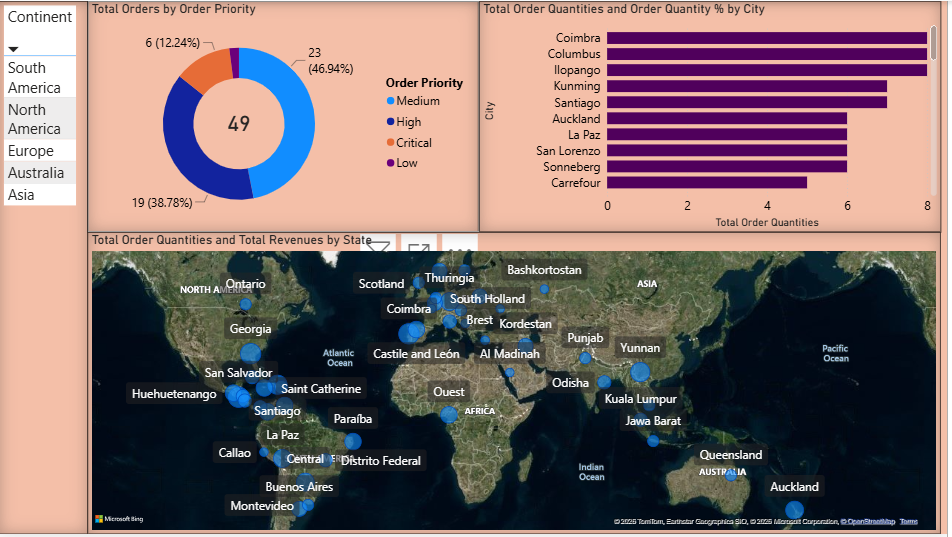

Layout of this report page (visuals, bound fields, positions):
{"tool":"powerbi","page":{"name":"Regional order page","canvas":[1280,720],"ordinal":2},"visuals":[{"type":"donutChart","fields":{"Category":["sales.Order Priority"],"Y":["Date.Total Orders"]},"box":[120,0,528,312],"z":0},{"type":"map","fields":{"Category":["sales.State","sales.City","sales.Country"],"Size":["sales.Total Order Quantities"]},"box":[120,312,1152,408],"z":1000},{"type":"clusteredBarChart","fields":{"Y":["sales.Total Order Quantities"],"Category":["sales.City"]},"box":[648,0,624,312],"z":2000},{"type":"tableEx","fields":{"Values":["Region.Continent"]},"box":[0,0,120,720],"z":3000}]}

Visuals, with their boxes in screenshot pixels (x1, y1, x2, y2), scaled from the page's 1280x720 canvas onto the 952x537 screenshot:
donutChart - sales.Order Priority x Date.Total Orders: 89, 0, 482, 233
map - sales.State x sales.City: 89, 233, 946, 536
clusteredBarChart - sales.Total Order Quantities x sales.City: 482, 0, 946, 233
tableEx - Region.Continent: 0, 0, 89, 536
